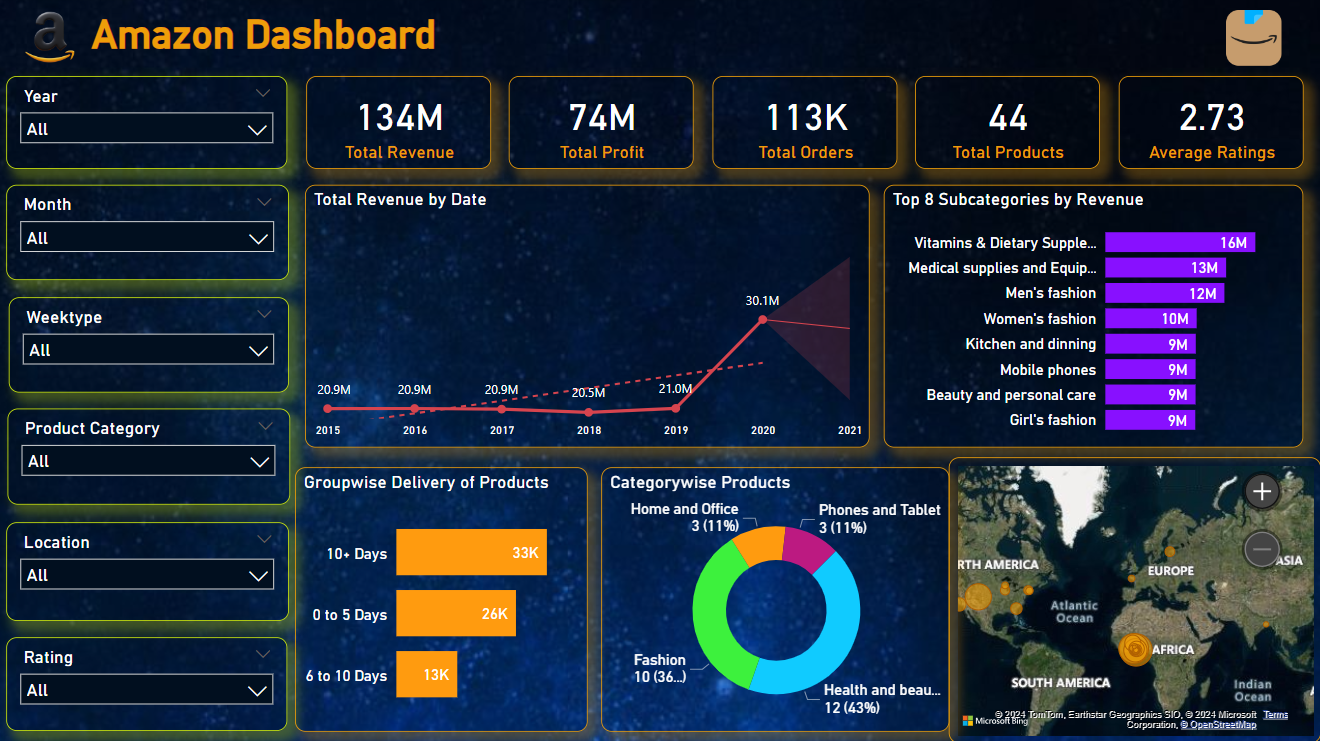

What the dashboard file says about the page in this screenshot:
{"tool":"powerbi","page":{"name":"Page 1","canvas":[1280,720],"ordinal":0},"visuals":[{"type":"slicer","fields":{"Values":["Calendar.Month"]},"box":[10.9,182.6,272.6,91.7],"z":1000},{"type":"slicer","fields":{"Values":["Calendar.Weektype"]},"box":[13.3,290.4,270.2,91.7],"z":2000},{"type":"slicer","fields":{"Values":["Table1.Product Category"]},"box":[12.1,398.2,272.6,92.9],"z":3000},{"type":"slicer","fields":{"Values":["Table1.Location"]},"box":[10.9,507.3,272.6,95.3],"z":4000},{"type":"slicer","fields":{"Values":["Table1.Rating"]},"box":[10.9,618.7,271.4,90.5],"z":5000},{"type":"card","fields":{"Values":["All Measures.Total Revenue"]},"box":[299.8,77.2,178.5,89.2],"z":6000},{"type":"card","fields":{"Values":["All Measures.Total Profit"]},"box":[495.9,77.2,178.5,89.2],"z":7000},{"type":"card","fields":{"Values":["All Measures.Total Orders"]},"box":[692,77.2,178.5,89.2],"z":8000},{"type":"card","fields":{"Values":["All Measures.Total Customers"]},"box":[888.1,77.2,178.5,89.2],"z":9000},{"type":"card","fields":{"Values":["All Measures.Average Ratings"]},"box":[1084.2,77.2,178.5,89.2],"z":10000},{"type":"textbox","box":[71.2,9.6,376.3,59.1],"z":11000},{"type":"image","box":[0,6,106.1,67.5],"z":12000},{"type":"image","box":[1149.3,0,130.3,80.8],"z":13000},{"type":"lineChart","title":"Total Revenue by Date","fields":{"Category":["Calendar.Weektype","Calendar.Year","Calendar.Month","Calendar.Quarter"],"Y":["All Measures.Total Revenue"]},"box":[299.1,182.5,544.8,253.9],"z":13001},{"type":"barChart","title":"Top 8 Subcategories by Revenue","fields":{"Category":["Table1.SubCategory"],"Y":["All Measures.Total Revenue"]},"box":[857.6,182.5,404.8,253.9],"z":13002},{"type":"map","fields":{"Category":["Table1.Location"],"Size":["All Measures.Total Revenue"]},"box":[920.8,444.6,359.5,275.8],"z":13003},{"type":"barChart","title":"Groupwise Delivery of Products","fields":{"Category":["Table1.Delivery Days (groups)"],"Y":["CountNonNull(Table1.Product)"]},"box":[289.5,454.2,282.7,255.2],"z":13004},{"type":"donutChart","title":"Categorywise Products","fields":{"Category":["Table1.Product Category"],"Y":["All Measures.Total Products"]},"box":[584.6,454.2,336.2,255.2],"z":13005},{"type":"slicer","fields":{"Values":["Calendar.Year"]},"box":[13.3,74.8,272.6,91.7],"z":13006}]}

Visuals, with their boxes in screenshot pixels (x1, y1, x2, y2), scaled from the page's 1280x720 canvas onto the 1320x741 screenshot:
slicer - Calendar.Month: [left=11, top=188, right=292, bottom=282]
slicer - Calendar.Weektype: [left=14, top=299, right=292, bottom=393]
slicer - Table1.Product Category: [left=12, top=410, right=294, bottom=505]
slicer - Table1.Location: [left=11, top=522, right=292, bottom=620]
slicer - Table1.Rating: [left=11, top=637, right=291, bottom=730]
card - All Measures.Total Revenue: [left=309, top=79, right=493, bottom=171]
card - All Measures.Total Profit: [left=511, top=79, right=695, bottom=171]
card - All Measures.Total Orders: [left=714, top=79, right=898, bottom=171]
card - All Measures.Total Customers: [left=916, top=79, right=1100, bottom=171]
card - All Measures.Average Ratings: [left=1118, top=79, right=1302, bottom=171]
textbox: [left=73, top=10, right=461, bottom=71]
image: [left=0, top=6, right=109, bottom=76]
image: [left=1185, top=0, right=1319, bottom=83]
"Total Revenue by Date" lineChart: [left=308, top=188, right=870, bottom=449]
"Top 8 Subcategories by Revenue" barChart: [left=884, top=188, right=1302, bottom=449]
map - Table1.Location x All Measures.Total Revenue: [left=950, top=458, right=1319, bottom=740]
"Groupwise Delivery of Products" barChart: [left=299, top=467, right=590, bottom=730]
"Categorywise Products" donutChart: [left=603, top=467, right=950, bottom=730]
slicer - Calendar.Year: [left=14, top=77, right=295, bottom=171]
